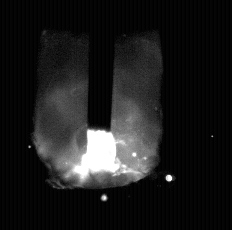arame: (88, 0, 112, 132)
poca: (34, 0, 162, 230)
